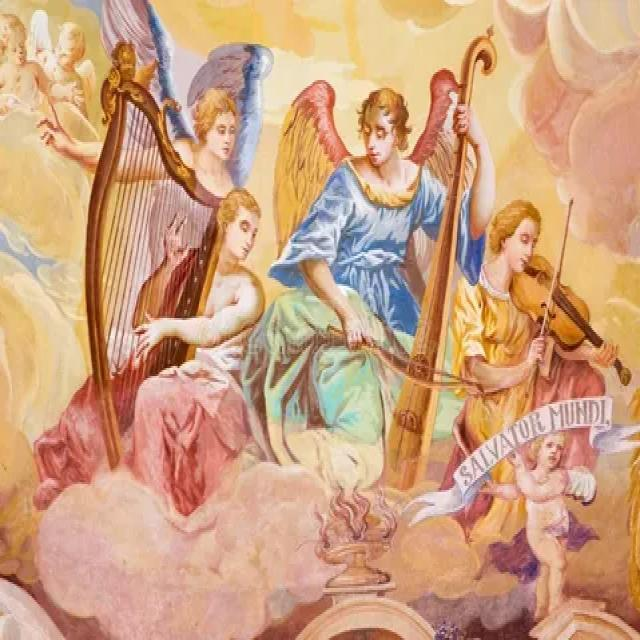angel: (68, 45, 266, 507), (445, 186, 629, 512)
